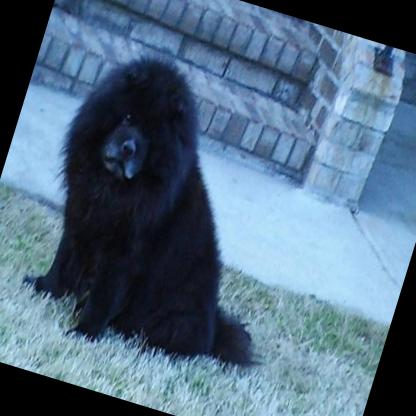chow: (9, 36, 333, 385)
